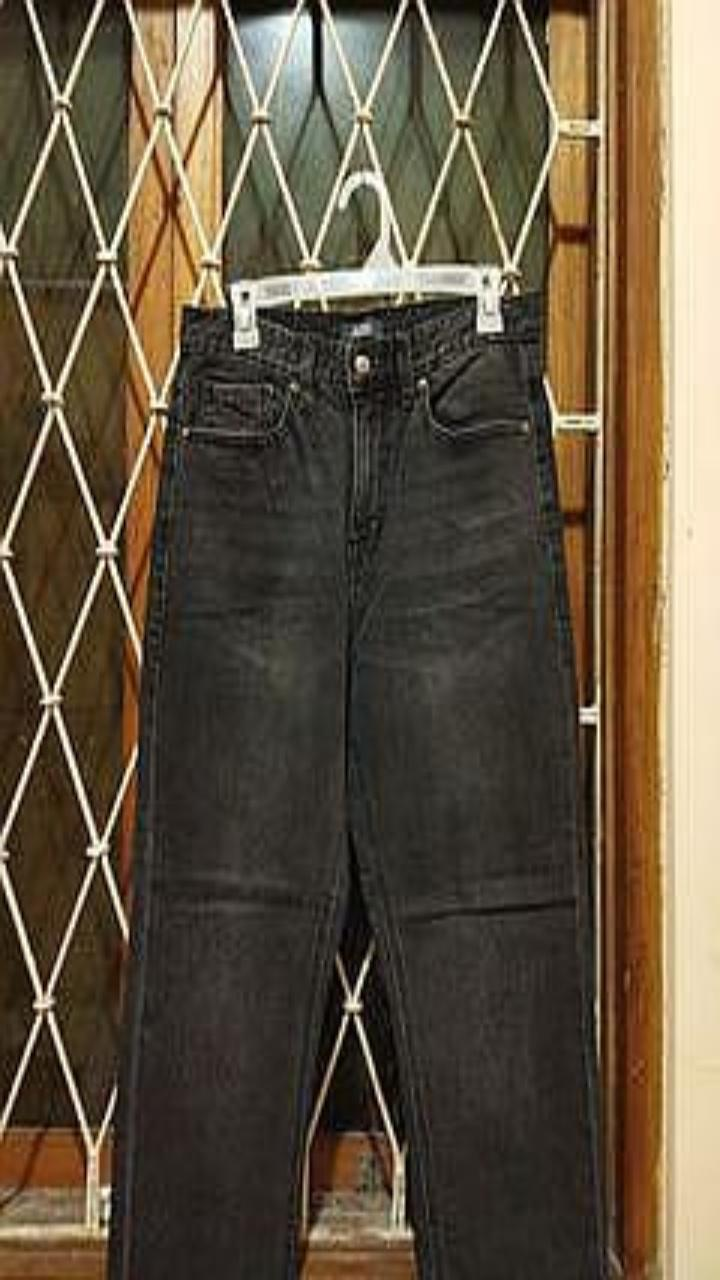Jeans: (108, 292, 605, 1279)
